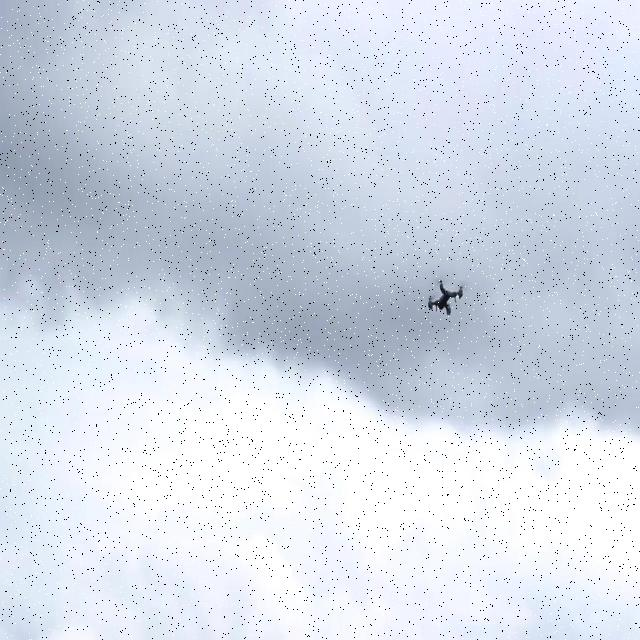UAV: (427, 276, 465, 319)
